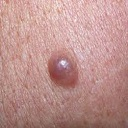Melanoma: (46, 52, 81, 87)
